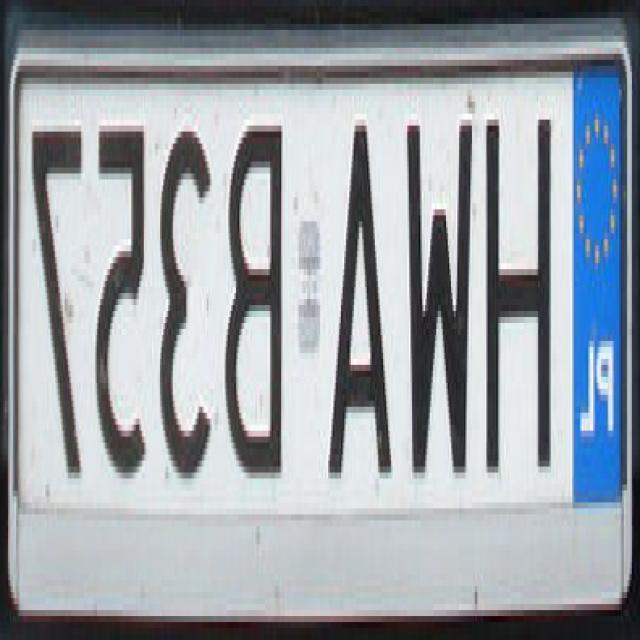pl_license_plate: (16, 48, 627, 514)
